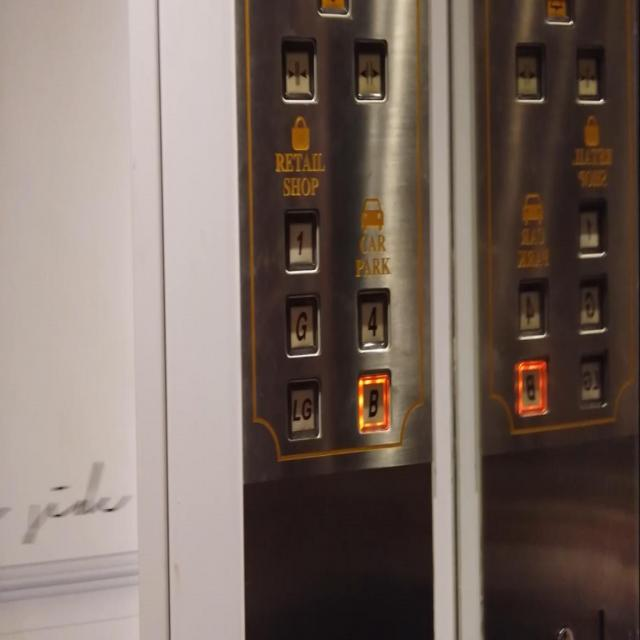1: (280, 204, 320, 277)
4: (354, 281, 393, 357)
B: (356, 369, 395, 435)
G: (283, 288, 322, 362)
LG: (284, 374, 324, 447)
close: (278, 32, 320, 108), (572, 40, 606, 108)
open: (349, 32, 388, 108), (512, 36, 547, 108)
unknown: (571, 274, 612, 338), (512, 352, 550, 420), (514, 271, 550, 342), (574, 349, 612, 412), (573, 197, 607, 259)
